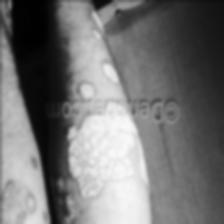Non-Cancerous Skin Condition: (62, 120, 140, 194), (76, 22, 126, 96), (0, 167, 41, 224), (56, 192, 72, 224)
